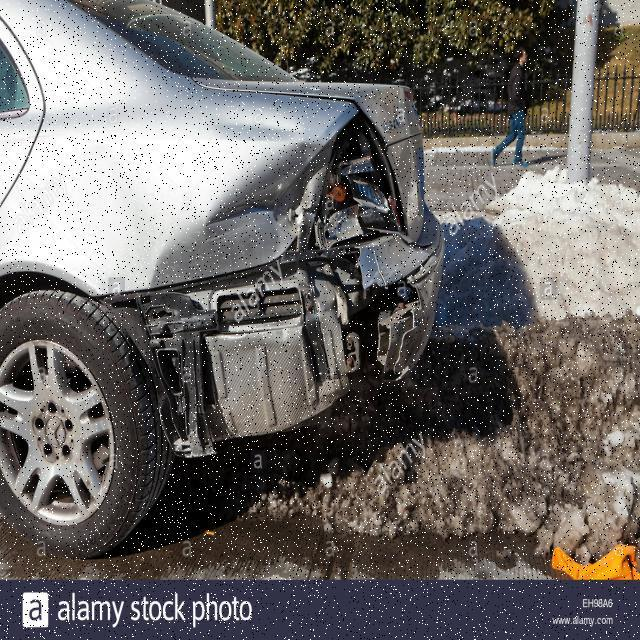quaterpanel-dent: (0, 61, 311, 372)
